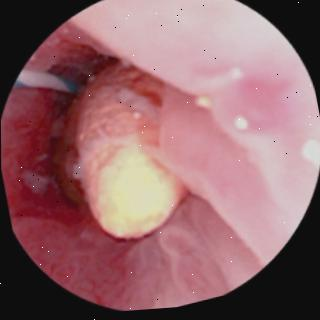stone: (59, 66, 182, 241)
tissue: (1, 4, 313, 307)
